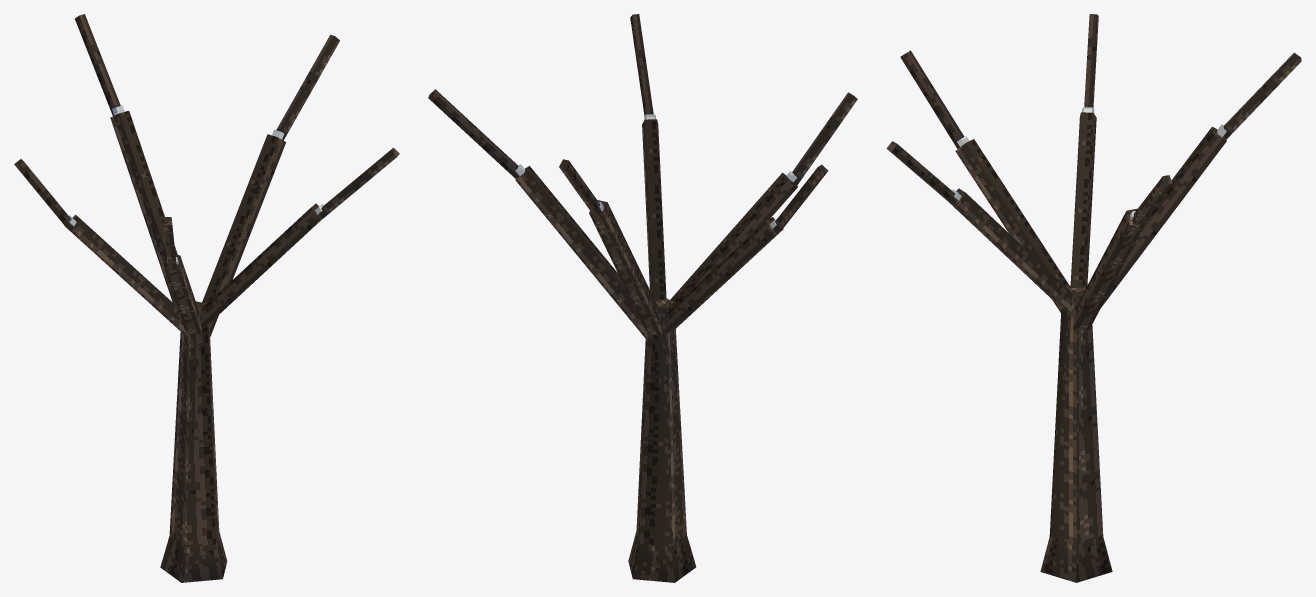
The model's file is mnat.dead_tree__snowy.glb.
3 renders of one model, left to right at view 1: azimuth 30°, elevation 25°; view 2: azimuth 150°, elevation 25°; view 3: azimuth 270°, elevation 25°, orthographic. The views are drawn at different scales.
Parts seen in each view (by area): view 1: kit_trunk; view 2: kit_trunk; view 3: kit_trunk.
Boxes of the visible parts, bbox=[...] form: kit_trunk: bbox=[14, 14, 399, 582]; kit_trunk: bbox=[428, 14, 857, 582]; kit_trunk: bbox=[886, 14, 1301, 582].
Size of the model in its own units: 4.64 by 5.96 by 4.42.
Materials: 2 (2 with a texture image).
